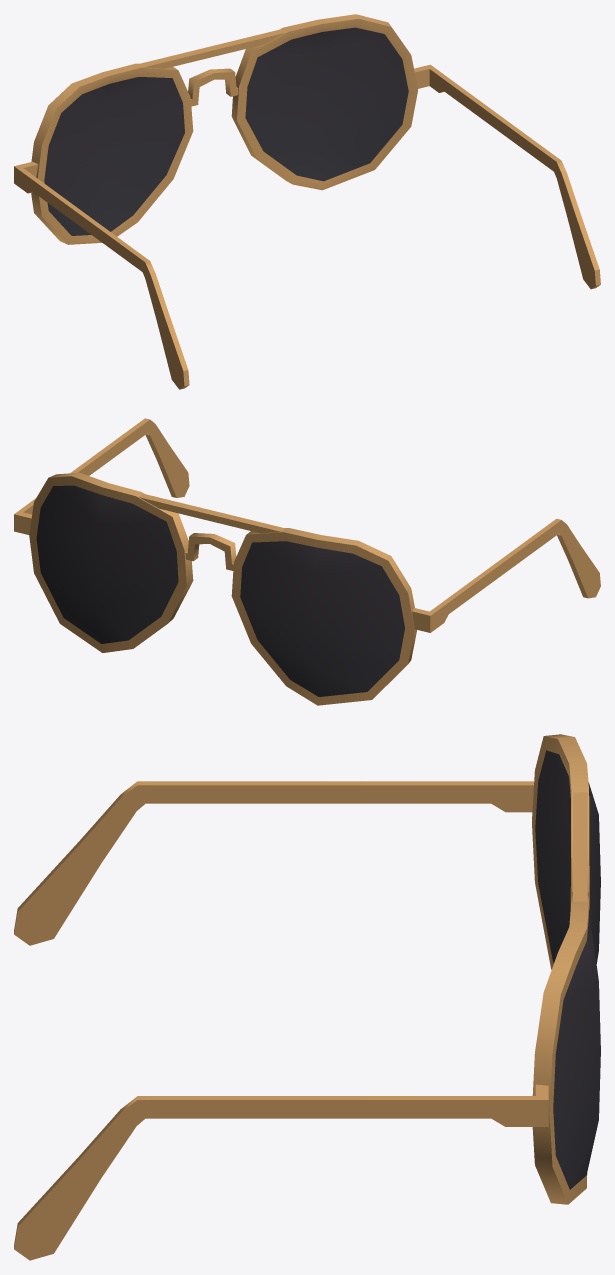
File: IG_FackMask_SunGlass.fbx
The picture shows the model from 3 angles, top to bottom: view 1: azimuth 30°, elevation 25°; view 2: azimuth 150°, elevation 25°; view 3: azimuth 270°, elevation 25°; orthographic projection. The views are drawn at different scales.
Parts seen in each view (by area): view 1: Sunglass01; view 2: Sunglass01; view 3: Sunglass01.
Boxes of the visible parts, <box> form: Sunglass01: <box>14,14,600,389</box>; Sunglass01: <box>14,418,600,705</box>; Sunglass01: <box>14,734,600,1260</box>.
Bounding box in the file's own units: 0.5155 × 0.1968 × 0.4013.
